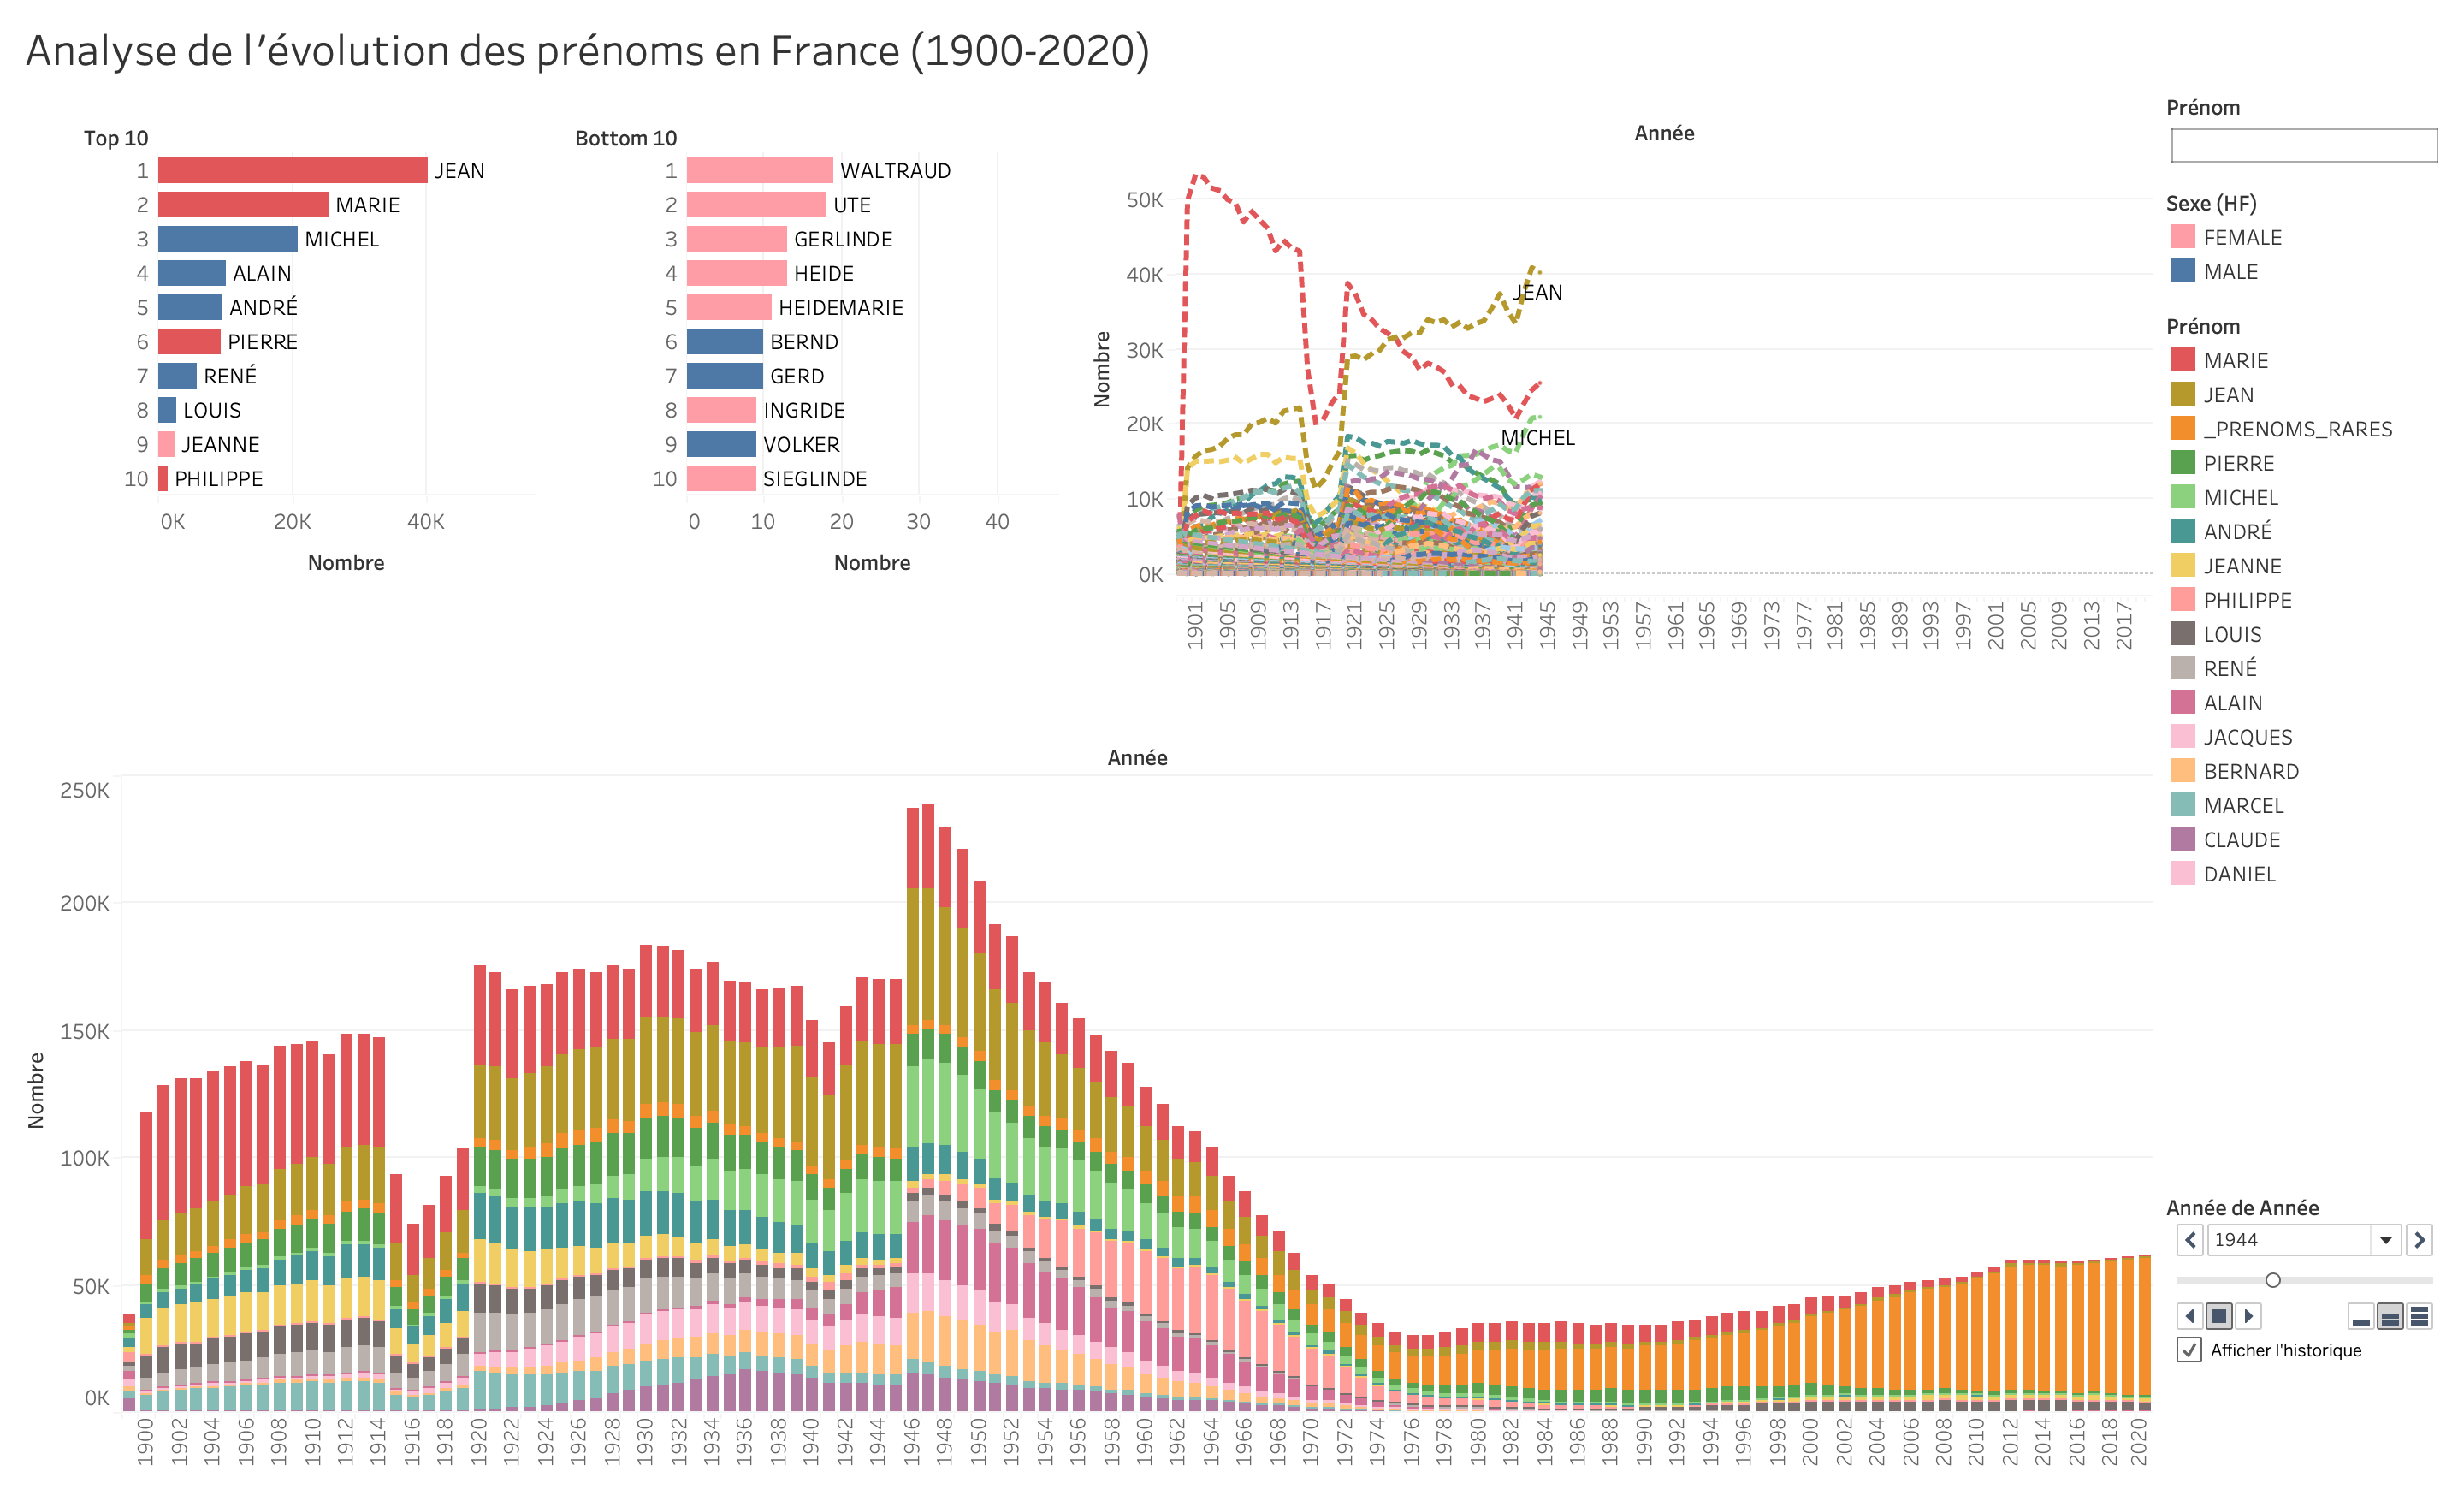

This screenshot's page, from the dashboard's own definition file:
{"tool":"tableau","page":{"name":"Dashboard","canvas":[1000,1000],"units":"permille","ordinal":0},"visuals":[{"type":"title","box":[5.6,9.2,988.9,48.3]},{"type":"worksheet","title":"BarChartRace","mark":"Bar","cols":["nombre"],"box":[5.6,57.5,214.9,384.5]},{"type":"worksheet","title":"Bottom10","mark":"Bar","cols":["nombre"],"box":[220.5,57.5,212.8,384.5]},{"type":"worksheet","title":"Top 10","mark":"Circle","rows":["nombre"],"cols":["annais"],"box":[433.3,57.5,443.1,384.5]},{"type":"parameter","param":"[Parameters].[Paramètre 3]","box":[876.4,57.5,118.1,64.4]},{"type":"legend","title":"Bottom10","param":"[federated.19kj0d41120fb116ftc9w1m4p7ka].[attr:Calculation_1866460616144150543:n","box":[876.4,121.9,118.1,82.8]},{"type":"legend","title":"Top 10","param":"[federated.19kj0d41120fb116ftc9w1m4p7ka].[none:preusuel:nk]","box":[876.4,204.6,118.1,400]},{"type":"worksheet","title":"StackedHist","mark":"Bar","rows":["nombre"],"cols":["annais"],"box":[5.6,442,870.8,548.8]},{"type":"currpage","title":"BarChartRace","box":[876.4,796.2,118.1,148.3]}]}

Visuals, with their boxes on the dashboard's canvas, which has no fixed pixel size, in thousandths of its width and height (x1, y1, x2, y2). These are canvas units, not pixel positions in the 2464x1489 screenshot, which may show the page scaled, cropped or inside an application window:
title: [6, 9, 994, 58]
"BarChartRace" worksheet (Bar marks): [6, 58, 220, 442]
"Bottom10" worksheet (Bar marks): [220, 58, 433, 442]
"Top 10" worksheet (Circle marks): [433, 58, 876, 442]
parameter: [876, 58, 994, 122]
"Bottom10" legend: [876, 122, 994, 205]
"Top 10" legend: [876, 205, 994, 605]
"StackedHist" worksheet (Bar marks): [6, 442, 876, 991]
"BarChartRace" currpage: [876, 796, 994, 944]
